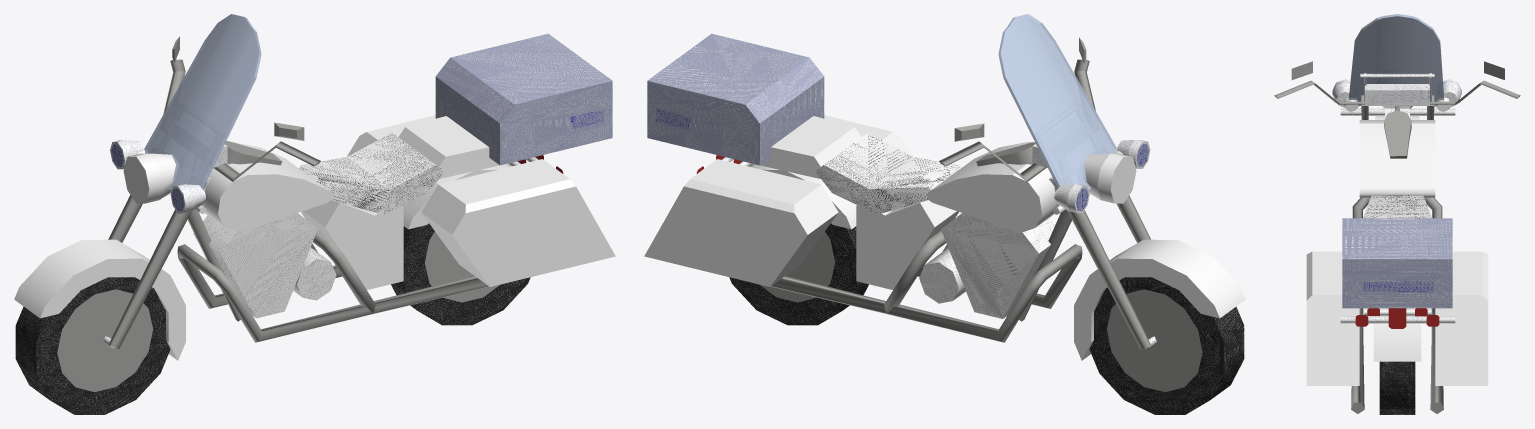
File: police-motorcycle.fbx
The picture shows the model from 3 angles, left to right: view 1: azimuth 30°, elevation 25°; view 2: azimuth 150°, elevation 25°; view 3: azimuth 270°, elevation 25°; orthographic projection. The views are drawn at different scales.
Visible parts, largest first — view 1: Motorcycle_police1, Component_8_2, wheel1, Group1, wheel_3_1, Group4, wheel2, Group_8_1, light_3_1, Component_5_1, Group3, Group_8_2 (+7 smaller); view 2: Motorcycle_police1, Component_8_1, wheel1, Group1, wheel_3_1, Group4, wheel2, Group_8_2, light_3_1, Component_5_2, Group3, Group_8_1 (+7 smaller); view 3: Motorcycle_police1, Component_8_1, Component_8_2, Group1, Group4, wheel2, wheel_2_1, Group5, Group_8_1, Group_8_2, Group3, Component_7_3 (+4 smaller).
Boxes of the visible parts, x1,y1,x2,y2 form: Motorcycle_police1: (103, 33, 612, 348); Component_8_2: (421, 159, 615, 286); wheel1: (15, 277, 170, 414); Group1: (144, 14, 261, 189); wheel_3_1: (14, 239, 185, 360); Group4: (202, 142, 332, 232); wheel2: (391, 223, 530, 325); Group_8_1: (196, 230, 488, 342); light_3_1: (123, 153, 178, 203); Component_5_1: (108, 182, 206, 349); Group3: (163, 59, 320, 181); Group_8_2: (177, 244, 342, 308); Motorcycle_police1: (647, 33, 1156, 348); Component_8_1: (644, 159, 838, 286); wheel1: (1089, 277, 1244, 414); Group1: (998, 14, 1117, 189); wheel_3_1: (1074, 239, 1245, 360); Group4: (927, 142, 1058, 232); wheel2: (729, 223, 868, 325); Group_8_2: (771, 231, 1063, 342); light_3_1: (1081, 153, 1136, 203); Component_5_2: (1052, 178, 1150, 349); Group3: (939, 59, 1095, 181); Group_8_1: (917, 244, 1082, 308); Motorcycle_police1: (1340, 84, 1455, 328); Component_8_1: (1435, 251, 1488, 385); Component_8_2: (1306, 251, 1359, 385); Group1: (1348, 14, 1444, 106); Group4: (1359, 120, 1435, 197); wheel2: (1379, 361, 1415, 414); wheel_2_1: (1373, 308, 1421, 361); Group5: (1384, 110, 1411, 158); Group_8_1: (1351, 197, 1370, 413); Group_8_2: (1424, 197, 1443, 413); Group3: (1274, 80, 1520, 104); Component_7_3: (1360, 73, 1434, 77).
Bounding box in the file's own units: 2.35 × 1.43 × 1.06.
